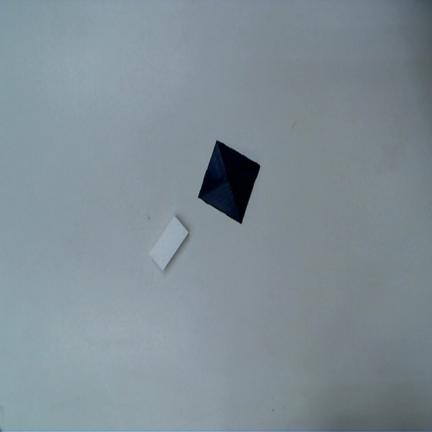Paralelepipedo: (150, 216, 190, 270)
Piramide: (198, 140, 261, 225)
